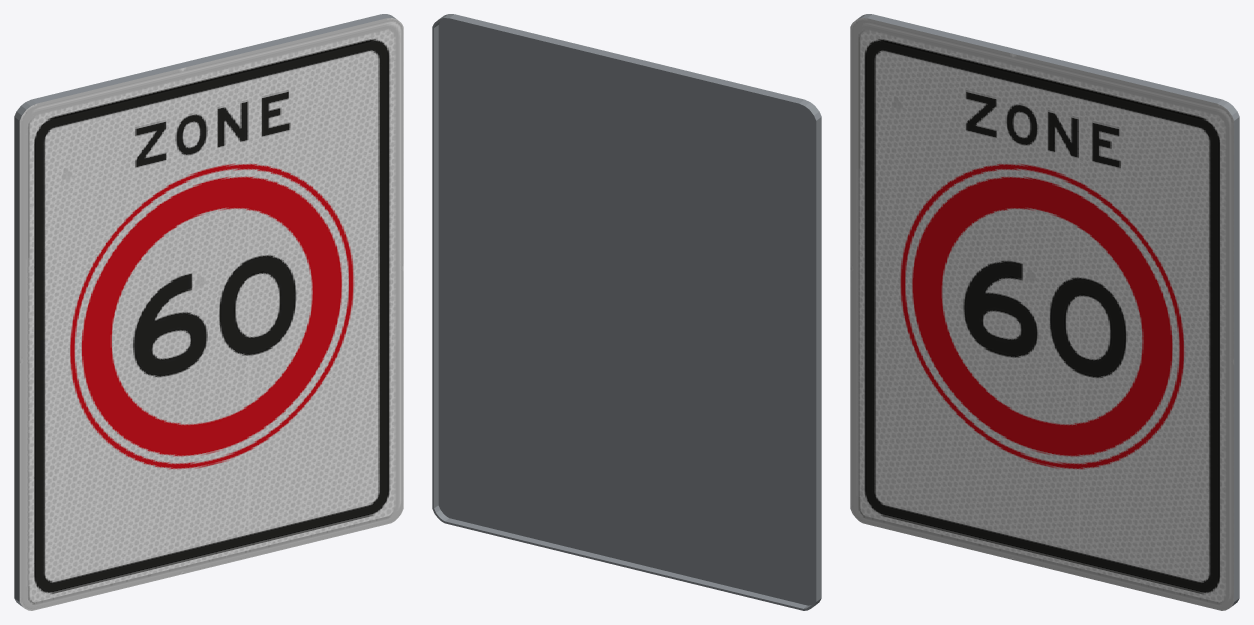
The picture shows the model from 3 angles, left to right: view 1: azimuth 30°, elevation 25°; view 2: azimuth 150°, elevation 25°; view 3: azimuth 330°, elevation 25°; orthographic projection.
Parts seen in each view (by area): view 1: cat_76cd9493d0da138d; view 2: cat_76cd9493d0da138d; view 3: cat_76cd9493d0da138d.
Boxes of the visible parts, <box> form: cat_76cd9493d0da138d: <box>14,14,403,610</box>; cat_76cd9493d0da138d: <box>432,14,821,610</box>; cat_76cd9493d0da138d: <box>850,14,1239,610</box>.
Size of the model in its own units: 0.6 by 0.015 by 0.7558.
Materials: 2 (1 with a texture image).
